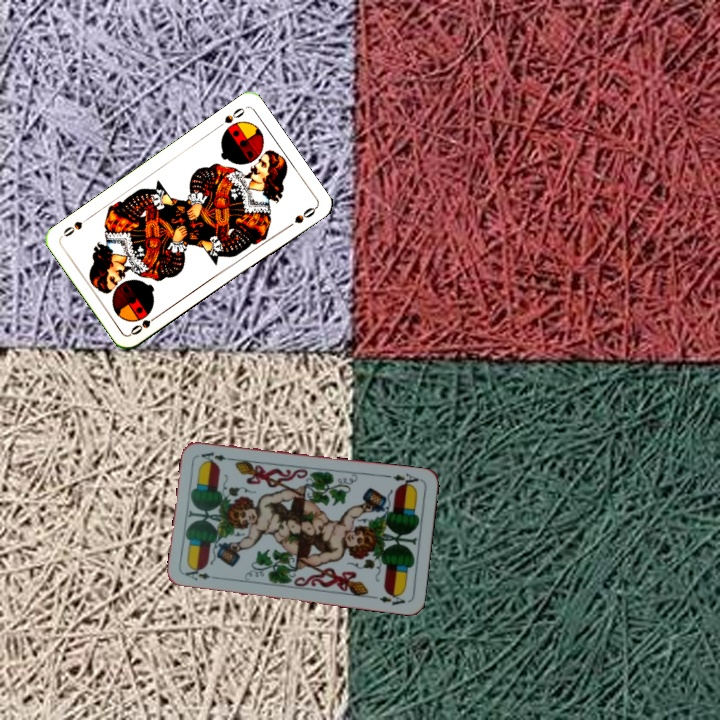EA: (383, 469, 423, 490), (181, 564, 221, 583)
SO: (126, 310, 163, 338), (212, 104, 247, 131)
